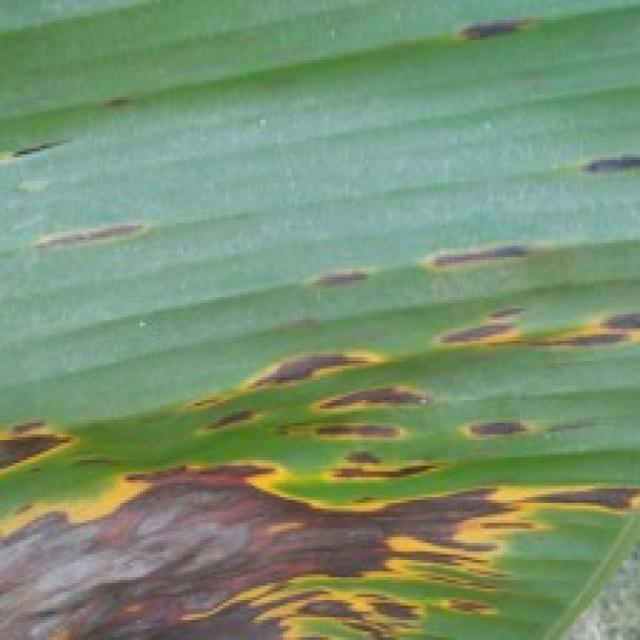Early_leaf_spot: (0, 442, 640, 640), (143, 331, 427, 447), (412, 274, 640, 362), (0, 384, 86, 494), (453, 386, 588, 451), (31, 206, 155, 263), (411, 228, 546, 275), (432, 4, 548, 54), (288, 243, 378, 301), (553, 133, 640, 187), (0, 130, 92, 175), (68, 80, 155, 127)
